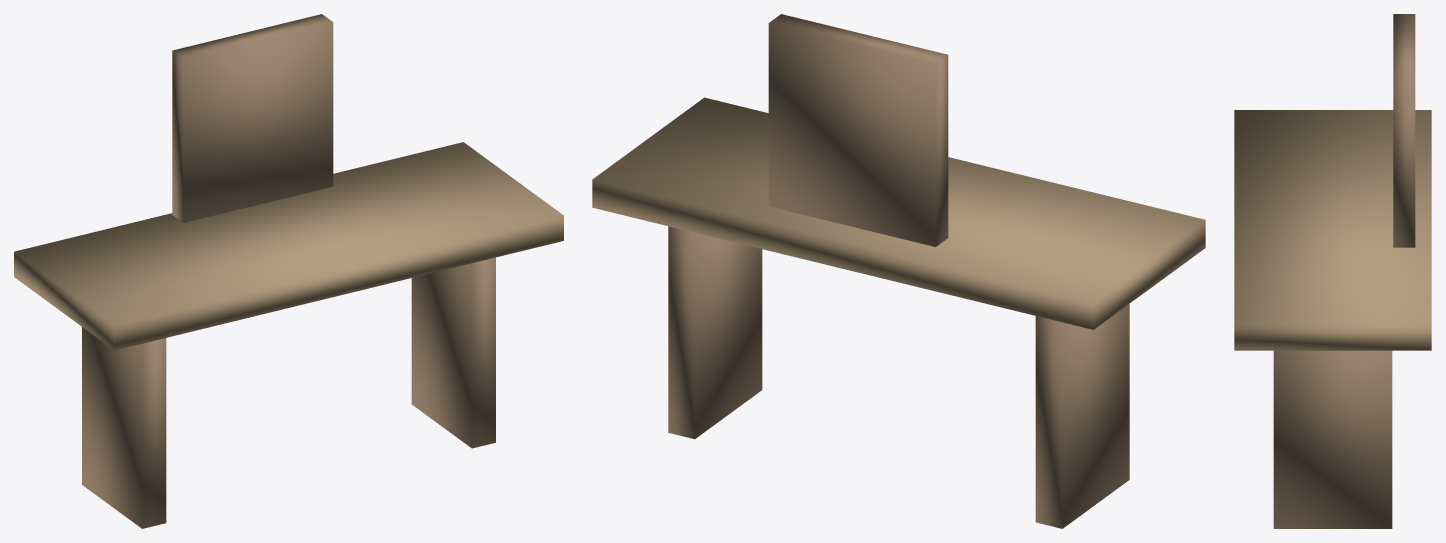
Rendered from altar_table__wide.glb.
3 renders of one model, left to right at view 1: azimuth 30°, elevation 25°; view 2: azimuth 150°, elevation 25°; view 3: azimuth 270°, elevation 25°, orthographic. The views are drawn at different scales.
Visible parts, largest first — view 1: world; view 2: world; view 3: world.
Part boxes in pixels (x1,y1,x2,y2): world: [14, 14, 563, 528]; world: [592, 14, 1205, 528]; world: [1234, 14, 1431, 528].
Size of the model in its own units: 1.86 by 1.59 by 0.72.
